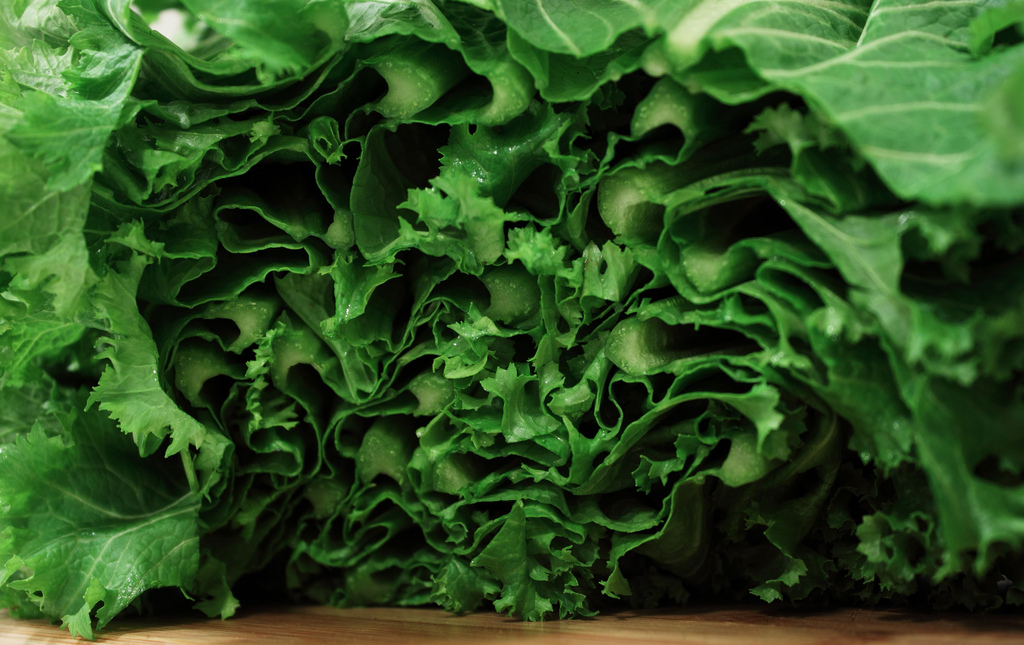chopped lettuce: (10, 9, 1024, 624)
